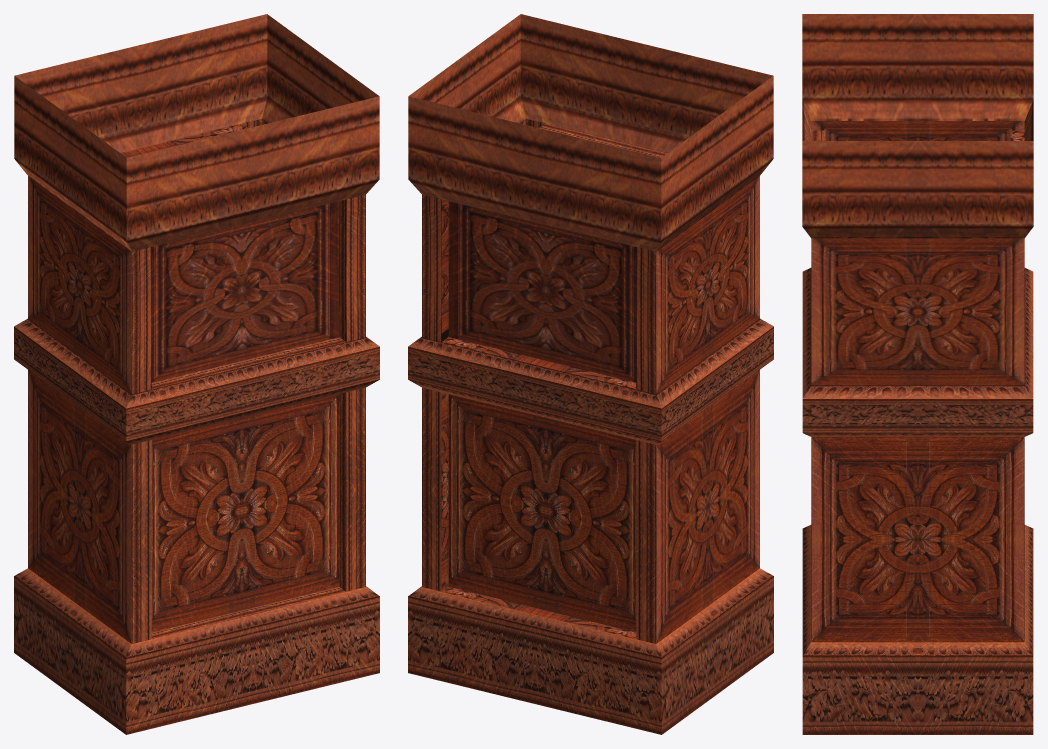
Rendered from Column_Box_carved.fbx.
3 views of the same model, side by side, from view 1: azimuth 30°, elevation 25°; view 2: azimuth 150°, elevation 25°; view 3: azimuth 270°, elevation 25° (orthographic). The views are drawn at different scales.
Parts seen in each view (by area): view 1: Column_Carved; view 2: Column_Carved; view 3: Column_Carved.
Boxes of the visible parts, <box> form: Column_Carved: <box>14,14,379,734</box>; Column_Carved: <box>408,14,773,734</box>; Column_Carved: <box>802,14,1033,734</box>.
Size of the model in its own units: 142 by 309 by 109.
